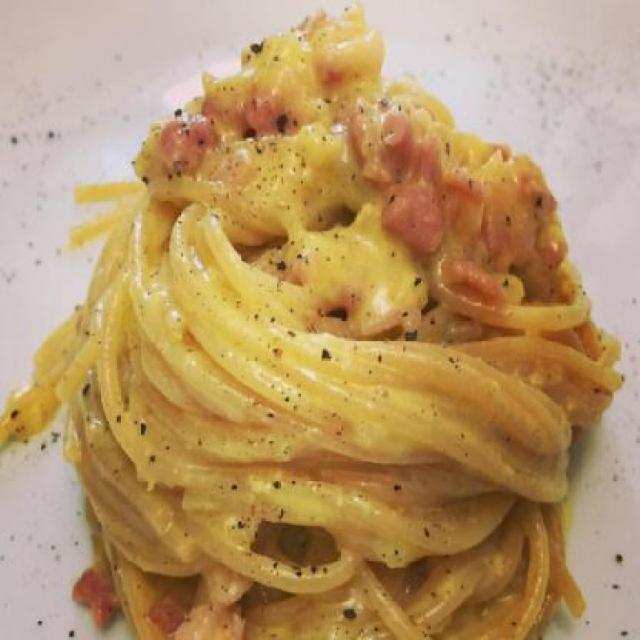Pasta with carbonara sauce: (47, 19, 624, 626)
